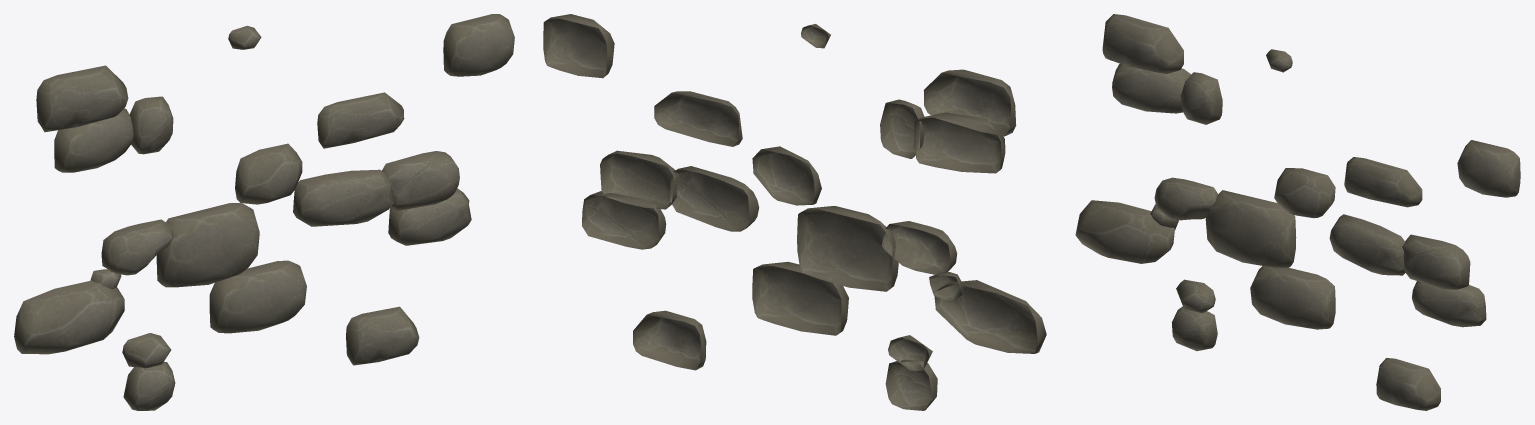
The model's file is MSH_fwOF_Ruins_Wall_Bricks_10.fbx.
The picture shows the model from 3 angles, left to right: view 1: azimuth 30°, elevation 25°; view 2: azimuth 150°, elevation 25°; view 3: azimuth 330°, elevation 25°; orthographic projection. The views are drawn at different scales.
Parts seen in each view (by area): view 1: MSH_fwOF_Ruins_Wall_Bricks_10; view 2: MSH_fwOF_Ruins_Wall_Bricks_10; view 3: MSH_fwOF_Ruins_Wall_Bricks_10.
Boxes of the visible parts, x1,y1,x2,y2 form: MSH_fwOF_Ruins_Wall_Bricks_10: (14, 14, 514, 410); MSH_fwOF_Ruins_Wall_Bricks_10: (543, 14, 1046, 410); MSH_fwOF_Ruins_Wall_Bricks_10: (1075, 14, 1520, 410).
Size of the model in its own units: 3.51 by 2.5 by 0.2739.
